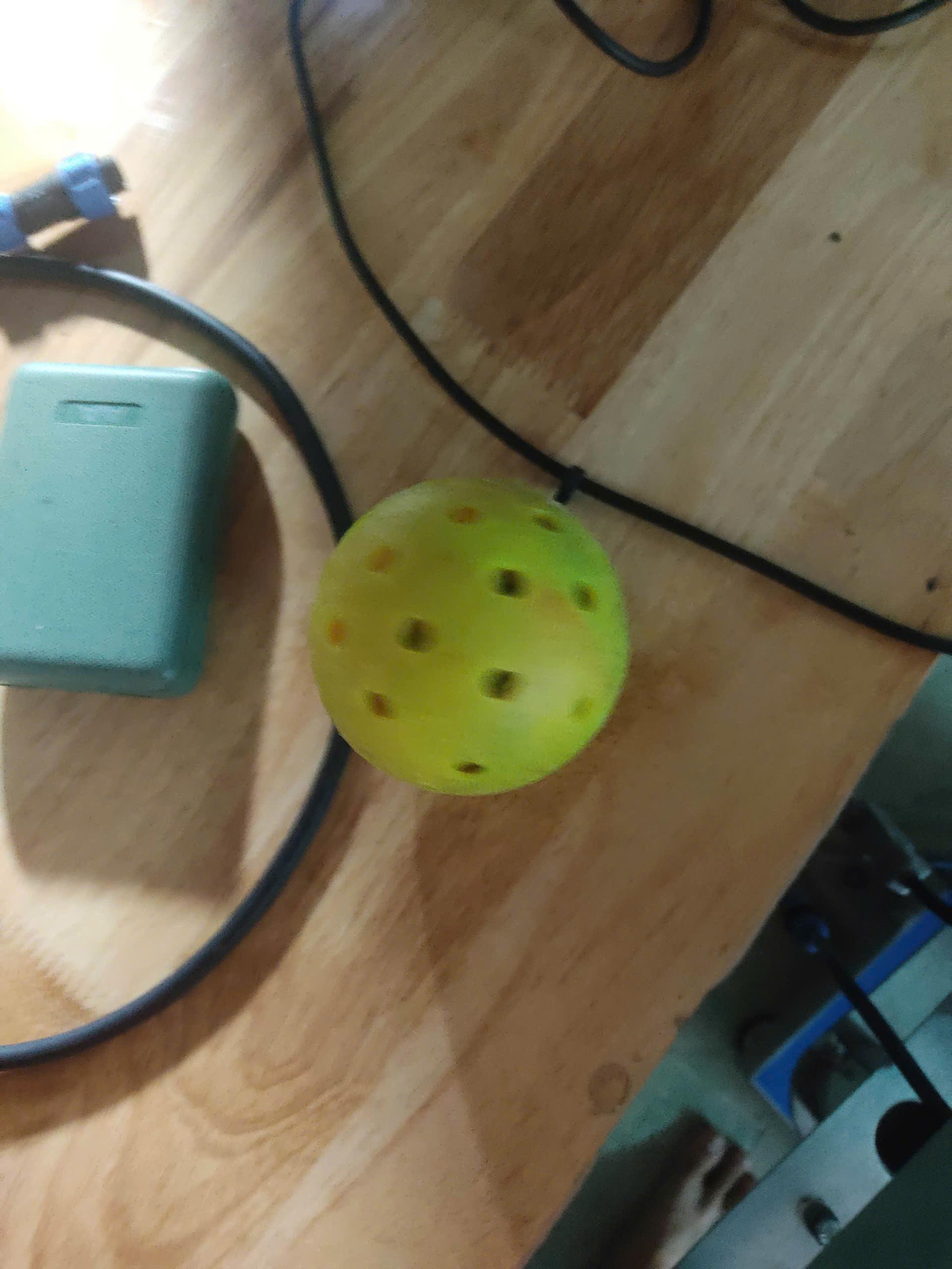ball: (295, 464, 642, 805)
